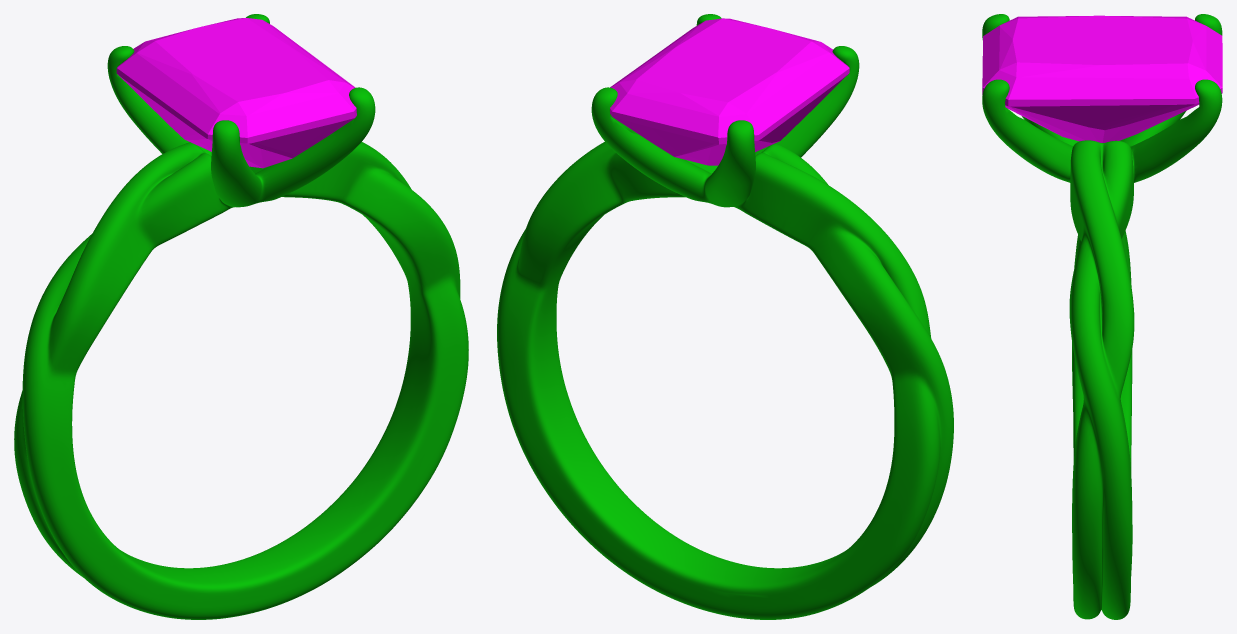
Rendered from BE1M56D_RA_200ct_RENDER.glb.
3 renders of one model, left to right at view 1: azimuth 30°, elevation 25°; view 2: azimuth 150°, elevation 25°; view 3: azimuth 270°, elevation 25°, orthographic.
Parts seen in each view (by area): view 1: Metal 01, CS_Diamond_Radiant; view 2: Metal 01, CS_Diamond_Radiant; view 3: Metal 01, CS_Diamond_Radiant.
Part boxes in pixels (left/top/right/bottom): Metal 01: left=14, top=14, right=468, bottom=619; CS_Diamond_Radiant: left=116, top=18, right=356, bottom=168; Metal 01: left=497, top=14, right=953, bottom=619; CS_Diamond_Radiant: left=610, top=18, right=849, bottom=165; Metal 01: left=982, top=14, right=1222, bottom=619; CS_Diamond_Radiant: left=982, top=15, right=1222, bottom=142.
Bounding box in the file's own units: 20.34 × 24.06 × 9.46.
